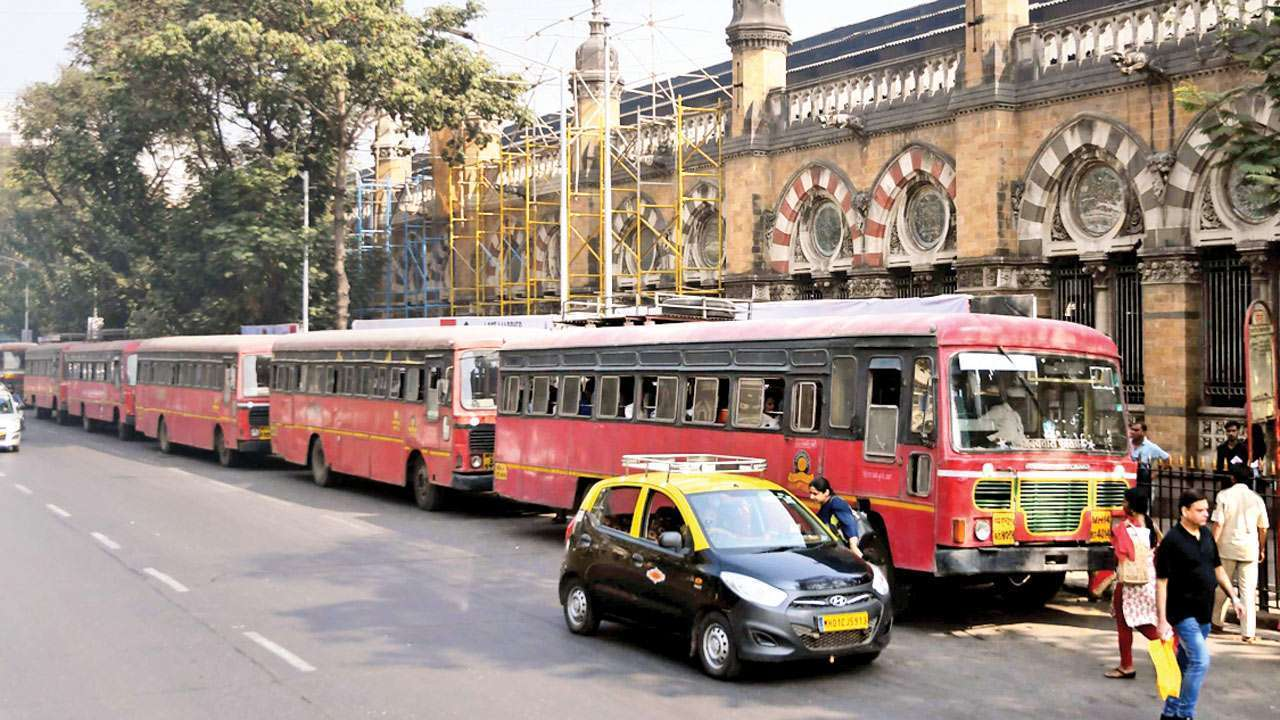bus: (499, 346, 1137, 553), (268, 336, 503, 517), (139, 338, 271, 468), (67, 344, 145, 443), (24, 350, 67, 423)
car: (564, 468, 918, 693)
